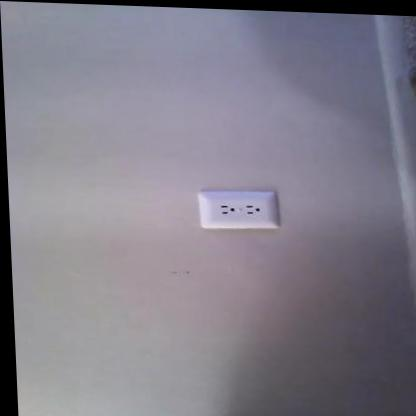OUTLET: (196, 187, 281, 232)
